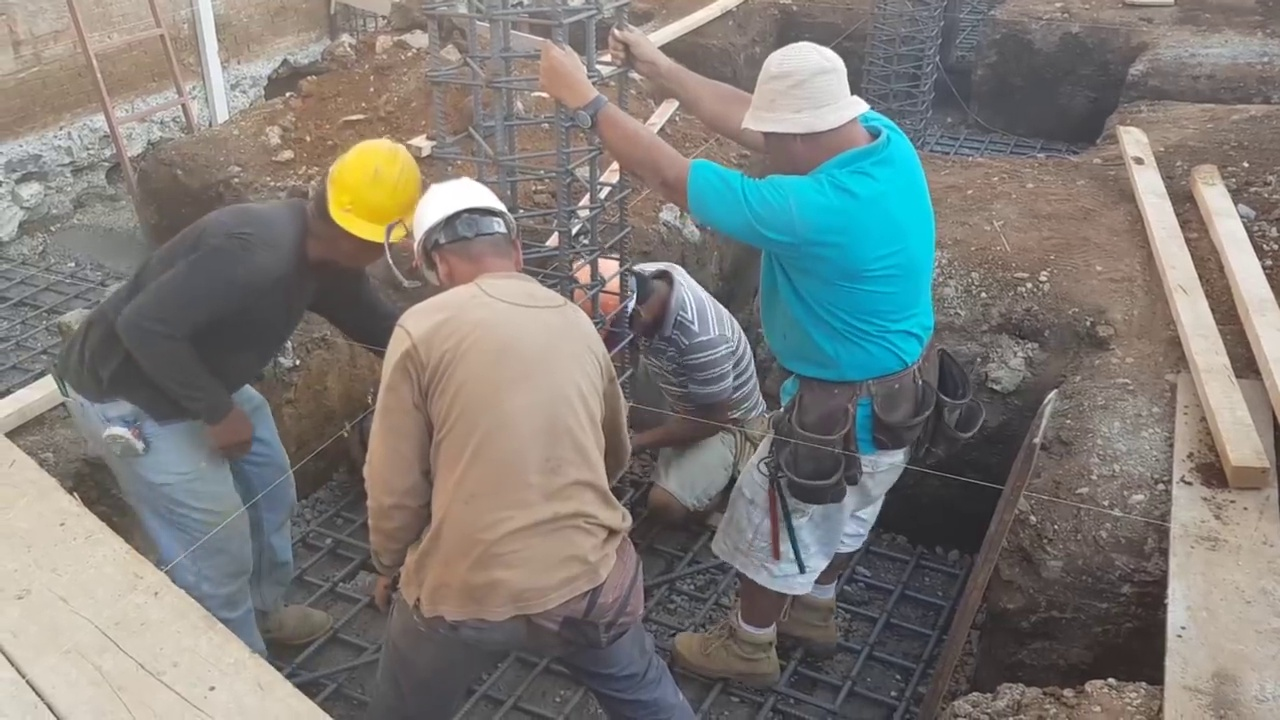helmet: (423, 165, 525, 293), (411, 173, 513, 269), (321, 144, 412, 251), (575, 248, 638, 320)
helmet-off: (737, 42, 876, 174)
helmet-on: (304, 134, 420, 280), (573, 238, 682, 345)
person: (542, 21, 933, 713), (351, 174, 702, 719), (54, 137, 417, 656), (574, 240, 762, 535)
